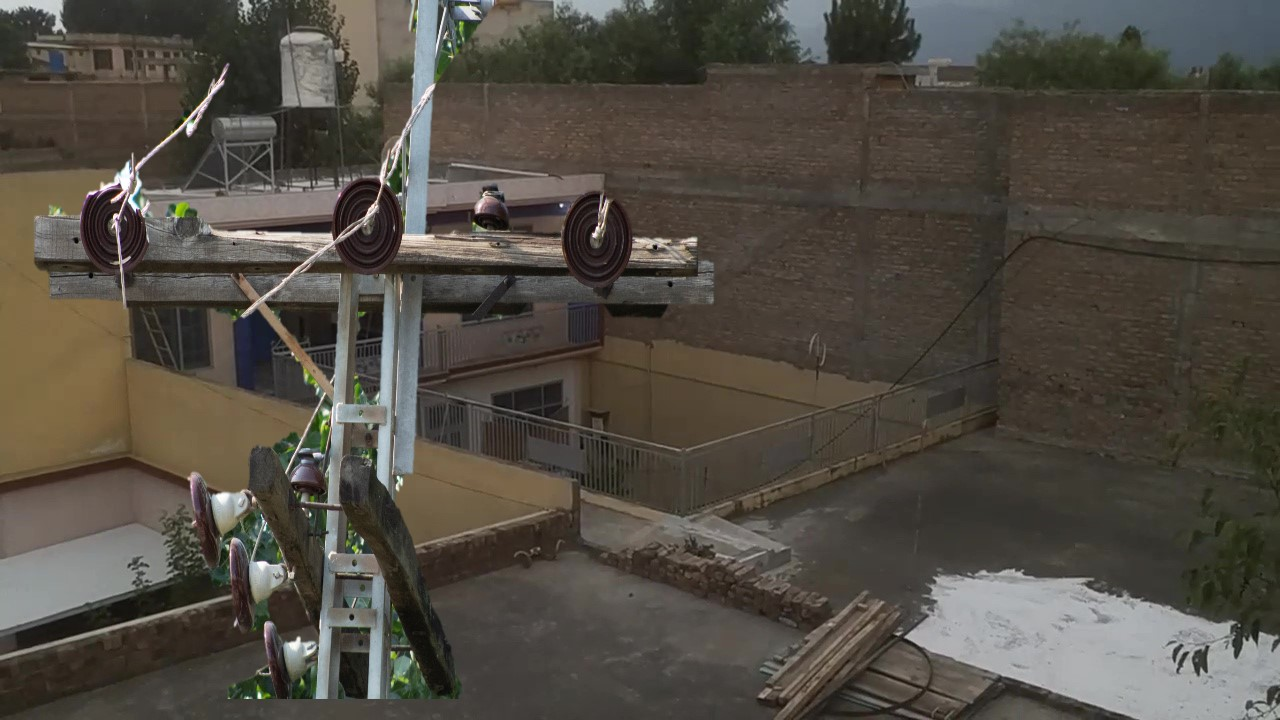defect_disc: (77, 173, 155, 275)
insulator_disc: (555, 178, 643, 298), (331, 176, 410, 276), (220, 537, 265, 637), (185, 461, 227, 565), (256, 613, 305, 700)
insulator_pin: (471, 179, 517, 234), (286, 440, 329, 497)
